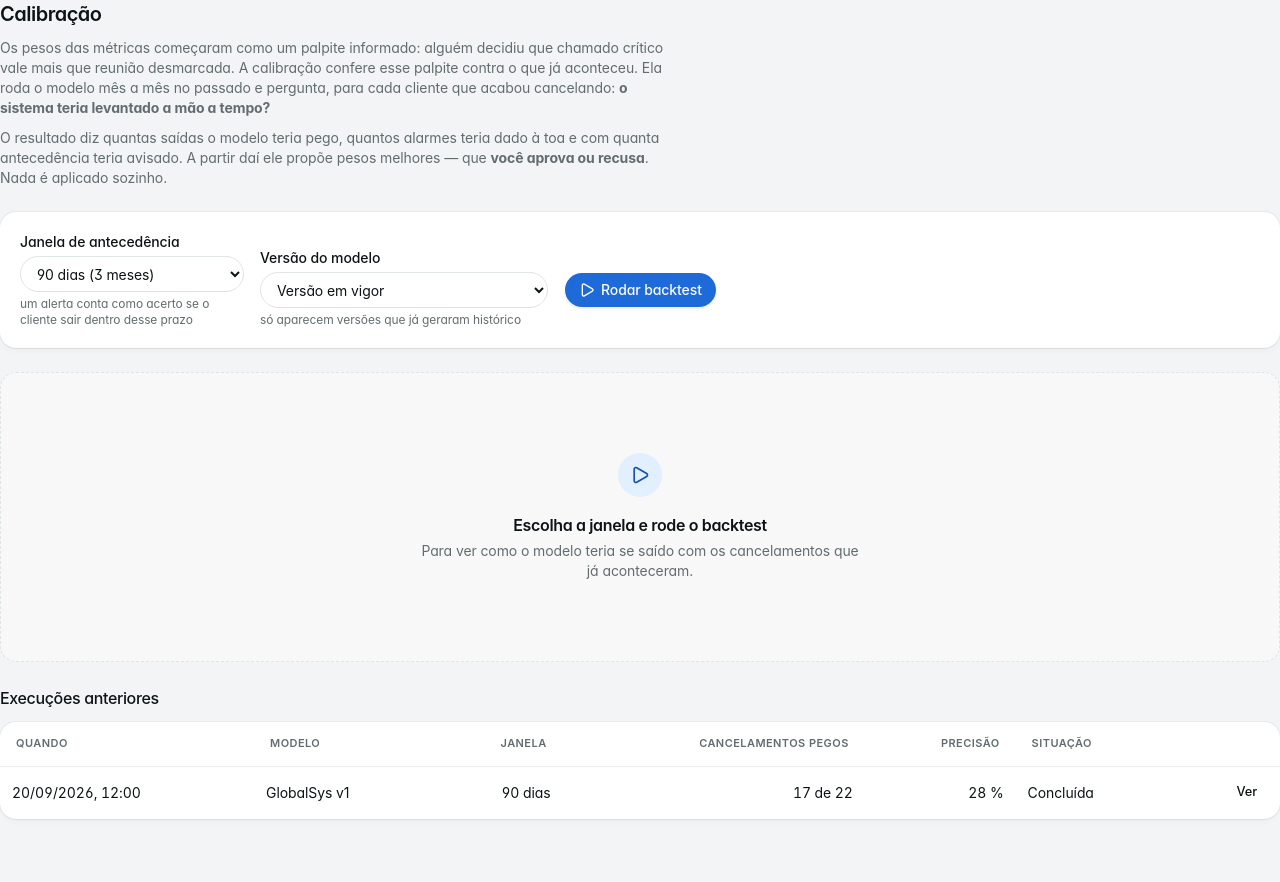
Scenario: tela de calibração › mostra a tabela de pesos com atual, sugerido, importância e mudança
Click the button "Rodar backtest": coordinates (640, 290) [564,272,717,308]
(page scrolled)
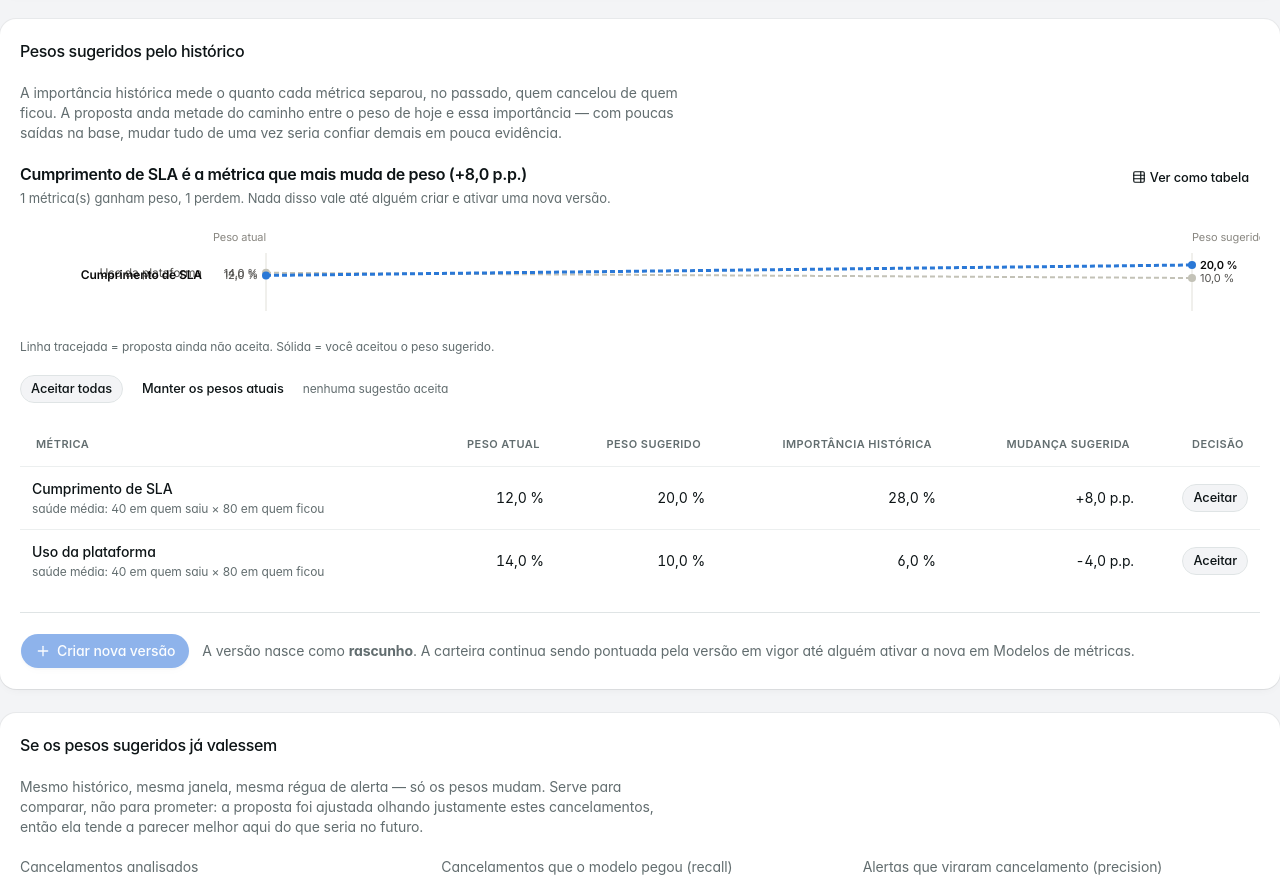
Result: the text "12,0 %" is shown at [422,467,556,530]
Result: the text "20,0 %" is shown at [556,467,717,530]
Result: the text "28,0 %" is shown at [717,467,948,530]
